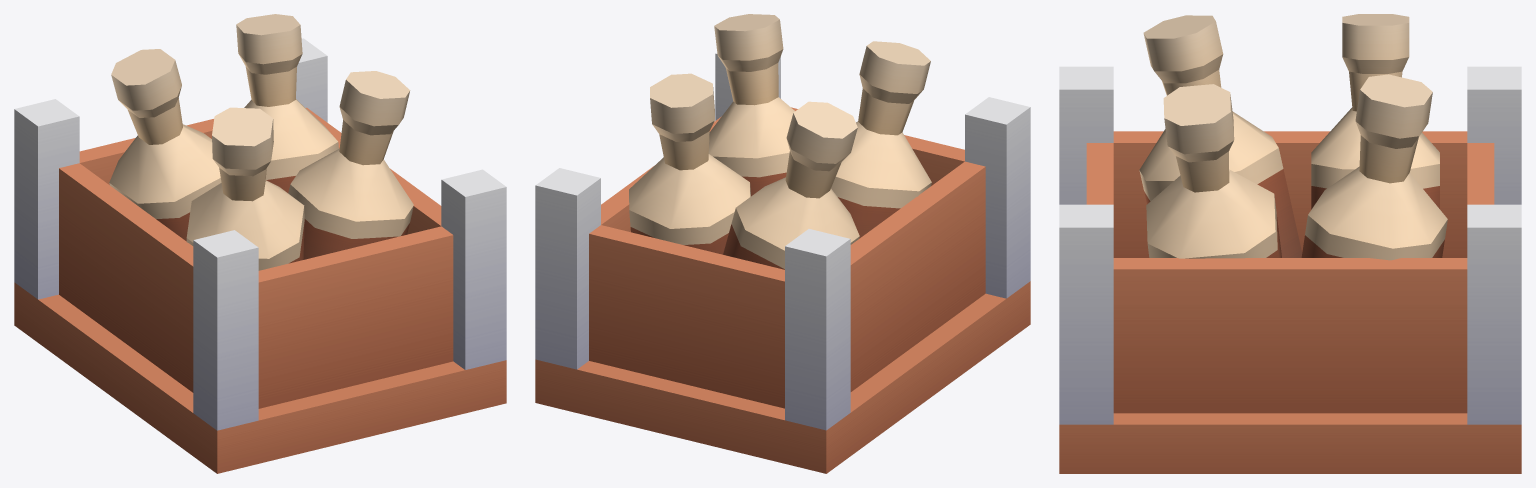
Rendered from crate_bottles.glb.
The picture shows the model from 3 angles, left to right: view 1: azimuth 30°, elevation 25°; view 2: azimuth 150°, elevation 25°; view 3: azimuth 270°, elevation 25°; orthographic projection. The views are drawn at different scales.
Visible parts, largest first — view 1: crate-bottles; view 2: crate-bottles; view 3: crate-bottles.
Part boxes in pixels (<box>): crate-bottles: <box>14,14,506,473</box>; crate-bottles: <box>535,14,1030,473</box>; crate-bottles: <box>1059,14,1521,473</box>.
Bounding box in the file's own units: 1.08 × 1.06 × 1.31.
1 material, 1 textured.
